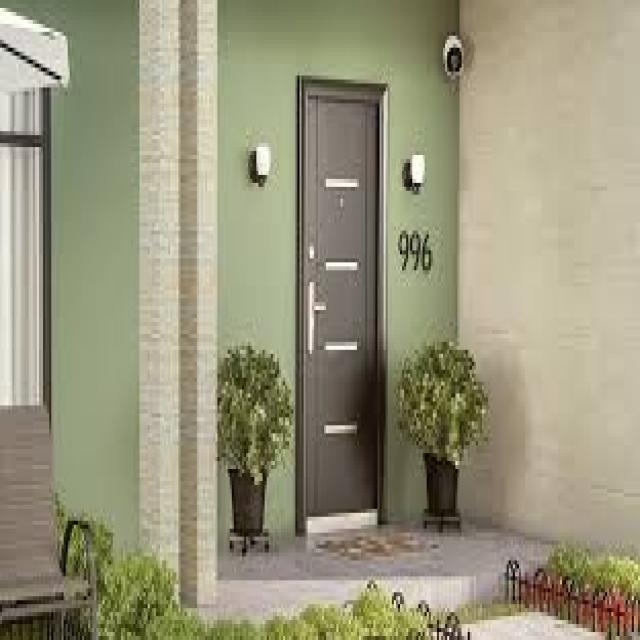door: (298, 75, 382, 532)
